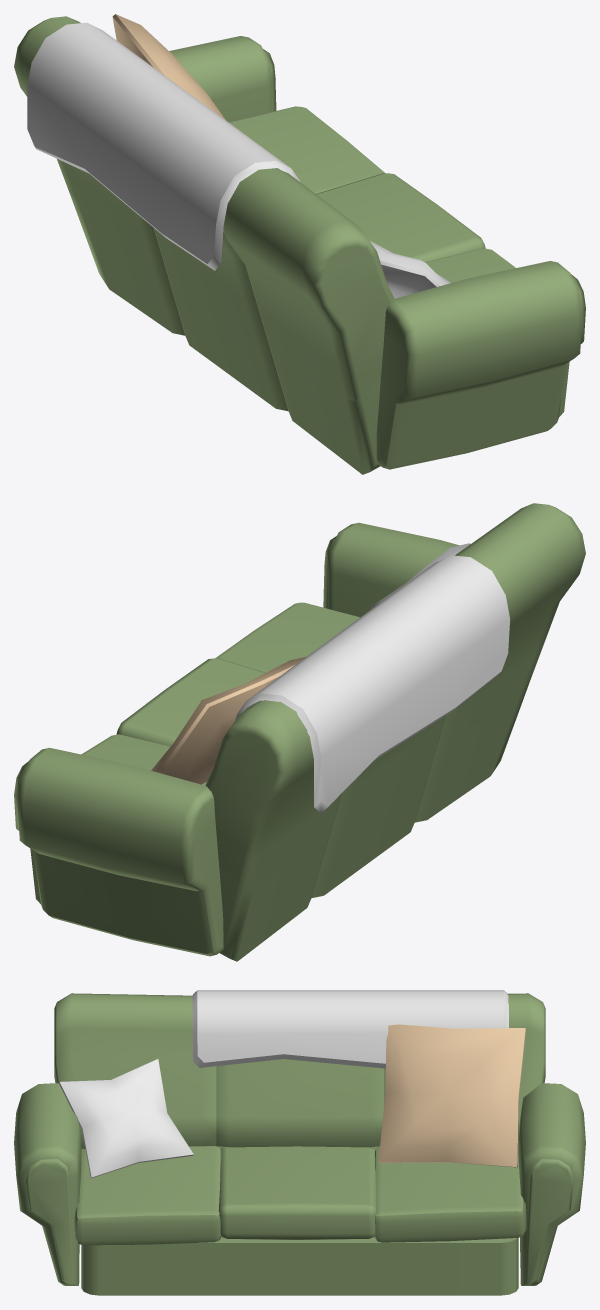
Rendered from couch_01.fbx.
3 views of the same model, one above another, from view 1: azimuth 30°, elevation 25°; view 2: azimuth 150°, elevation 25°; view 3: azimuth 270°, elevation 25° (orthographic). The views are drawn at different scales.
Visible parts, largest first — view 1: pCube290, pCube288, pCube294, pCube291, pCube293, pCube296, pCube295, pCube292; view 2: pCube290, pCube288, pCube294, pCube296, pCube291, pCube292, pCube293; view 3: pCube290, pCube286, pCube288, pCube294, pCube296, pCube291, pCube292, pCube293, pCube295.
Part boxes in pixels (x1,y1,x2,y2): pCube290: (14,16,394,474); pCube288: (169,36,585,469); pCube294: (27,22,300,270); pCube291: (316,173,485,262); pCube293: (229,106,385,193); pCube296: (112,14,225,120); pCube295: (370,241,450,298); pCube292: (425,248,515,282); pCube290: (205,503,585,961); pCube288: (14,522,459,956); pCube294: (235,555,510,813); pCube296: (151,656,306,784); pCube291: (116,658,265,746); pCube292: (215,602,359,672); pCube293: (81,734,206,785); pCube290: (54,993,545,1150); pCube286: (81,1237,518,1295); pCube288: (14,1083,585,1285); pCube294: (192,990,508,1068); pCube296: (378,1024,525,1167); pCube291: (218,1146,377,1239); pCube292: (74,1146,221,1245); pCube293: (374,1141,526,1242); pCube295: (59,1059,193,1178).
Bounding box in the file's own units: 8.08 × 7.37 × 17.02.
